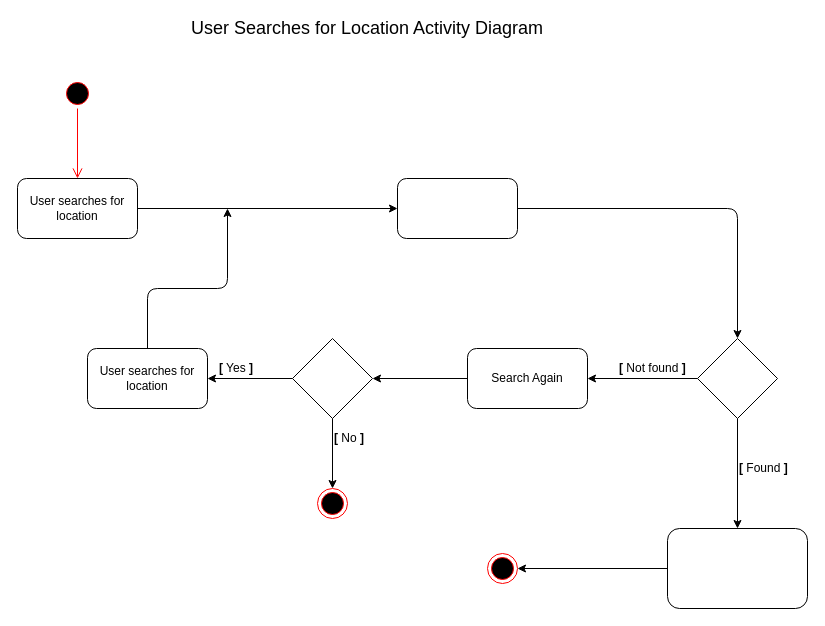
This 825x626 diagram has some shape labels left out. Each missing label, with the centre of its shape:
"System displays the corresponding PIN" belongs at point 737,568.
"System searches for corresponding PIN" belongs at point 457,208.
